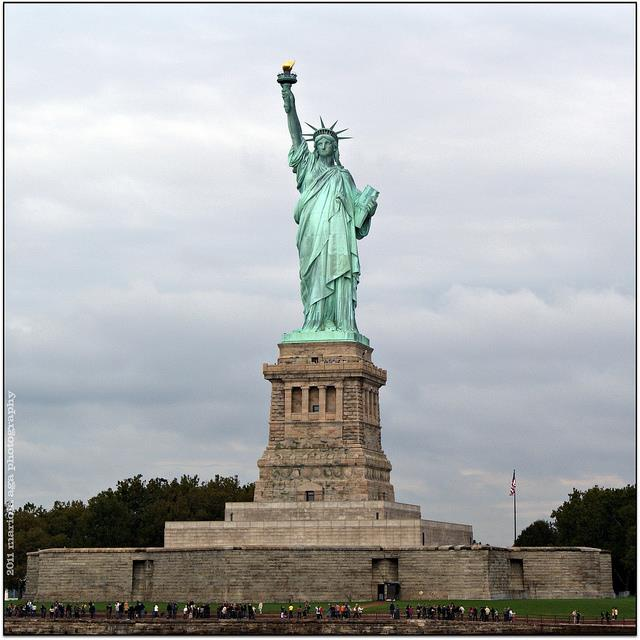Statue_of_Liberty: (263, 53, 383, 344)
